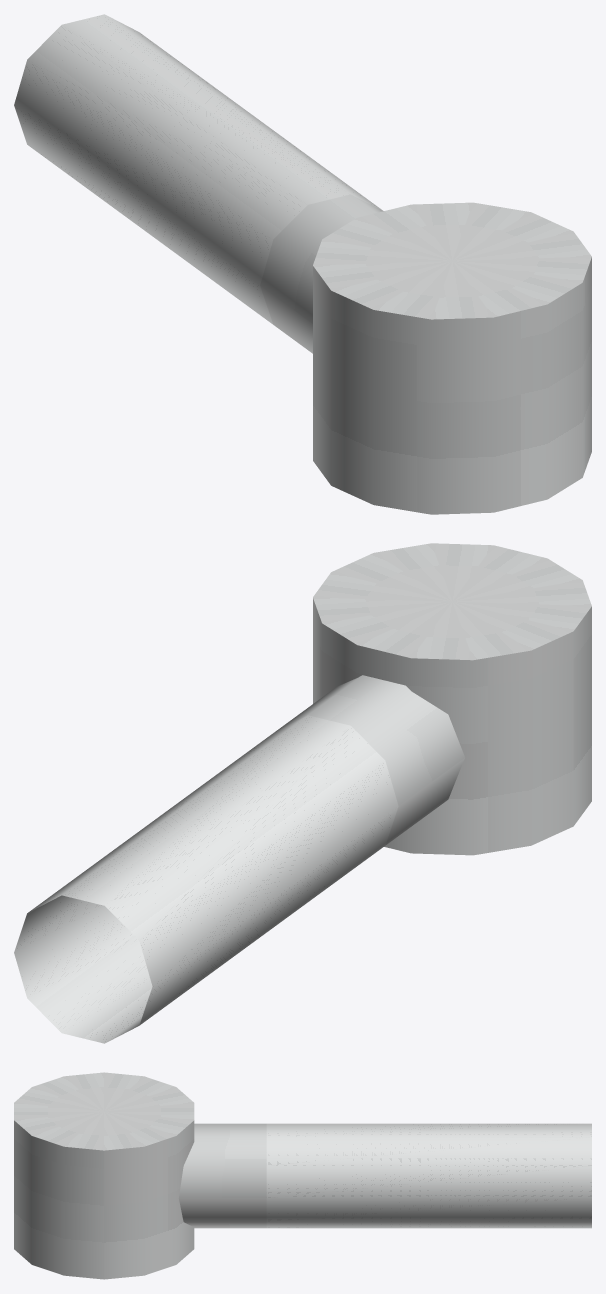
File: trusssignalarm_level6_c0_thin.obj
3 views of the same model, one above another, from view 1: azimuth 30°, elevation 25°; view 2: azimuth 150°, elevation 25°; view 3: azimuth 270°, elevation 25° (orthographic). The views are drawn at different scales.
Parts seen in each view (by area): view 1: trusssignalarm_level6_c0_thin; view 2: trusssignalarm_level6_c0_thin; view 3: trusssignalarm_level6_c0_thin.
Boxes of the visible parts, x1=… form: trusssignalarm_level6_c0_thin: x1=14, y1=14, x2=591, y2=514; trusssignalarm_level6_c0_thin: x1=14, y1=543, x2=591, y2=1043; trusssignalarm_level6_c0_thin: x1=14, y1=1072, x2=591, y2=1279.
Size of the model in its own units: 0.5688 by 0.4375 by 1.78.
